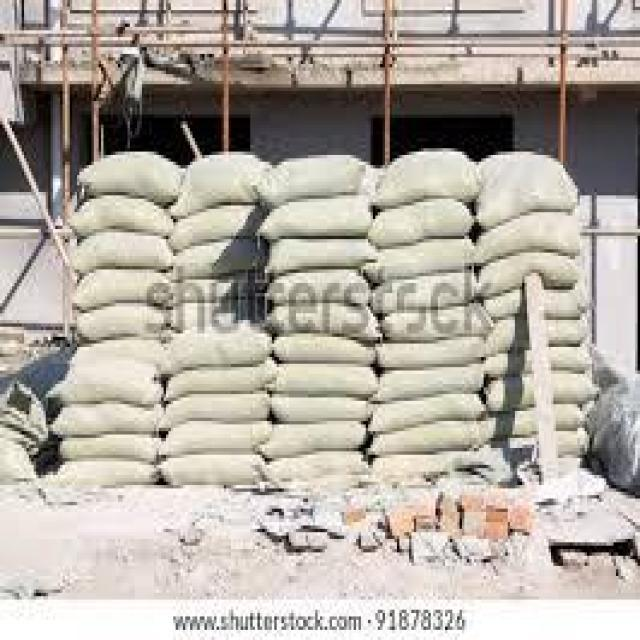gunny_bag: (479, 153, 577, 224), (376, 148, 485, 210), (174, 156, 269, 221), (264, 153, 373, 206), (369, 198, 475, 249), (162, 332, 273, 378), (370, 239, 486, 282), (80, 155, 183, 202), (74, 233, 174, 280), (479, 211, 581, 257), (55, 361, 161, 405), (384, 301, 494, 342), (371, 273, 483, 313), (163, 361, 276, 400), (159, 396, 269, 436), (480, 253, 580, 297), (263, 422, 367, 463), (75, 270, 171, 314), (171, 207, 262, 253), (261, 199, 371, 237), (372, 394, 486, 430), (268, 306, 381, 342), (484, 374, 596, 410), (72, 198, 172, 238), (170, 242, 266, 283), (369, 422, 487, 455), (164, 423, 272, 459), (269, 270, 370, 307), (166, 295, 270, 330), (275, 237, 376, 273), (485, 404, 588, 439), (376, 370, 483, 403), (275, 367, 380, 400), (377, 338, 485, 370), (63, 337, 166, 370), (486, 347, 594, 378), (164, 455, 264, 488), (79, 306, 166, 343), (55, 408, 161, 438), (486, 290, 584, 319), (275, 338, 379, 364), (492, 320, 583, 349), (61, 436, 158, 463), (177, 275, 262, 305), (265, 456, 359, 483), (274, 399, 369, 425), (61, 462, 160, 486)
